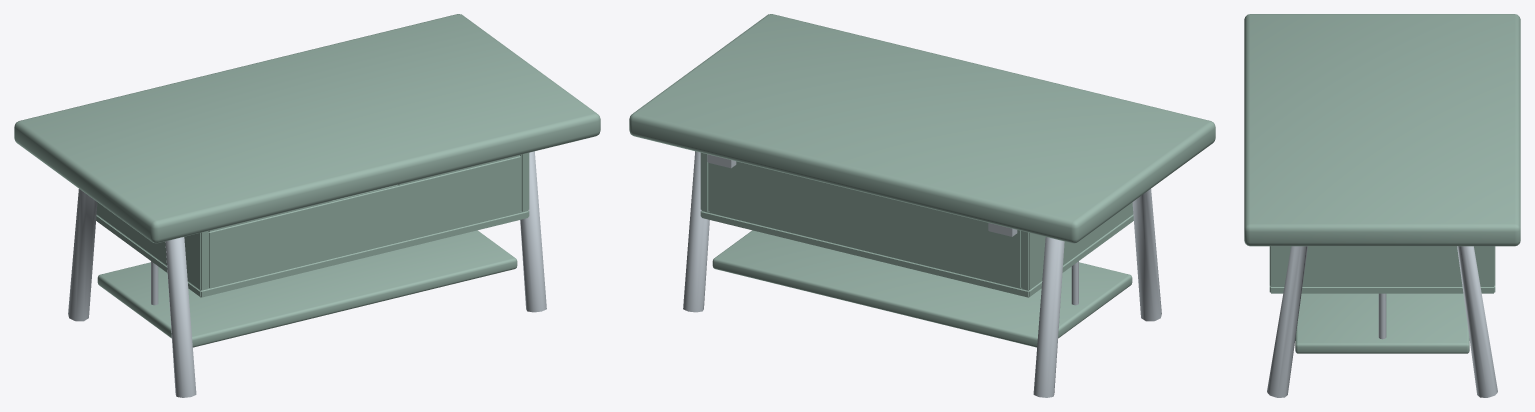
Rendered from lift-coffee-table.glb.
3 renders of one model, left to right at view 1: azimuth 30°, elevation 25°; view 2: azimuth 150°, elevation 25°; view 3: azimuth 270°, elevation 25°, orthographic. The views are drawn at different scales.
Visible parts, largest first — view 1: catalog_surface_RealismUV; view 2: catalog_surface_RealismUV; view 3: catalog_surface_RealismUV.
Boxes of the visible parts, x1,y1,x2,y2 form: catalog_surface_RealismUV: [14, 14, 600, 397]; catalog_surface_RealismUV: [629, 14, 1215, 397]; catalog_surface_RealismUV: [1244, 14, 1520, 397].
Size of the model in its own units: 1.1 by 0.46 by 0.6.
